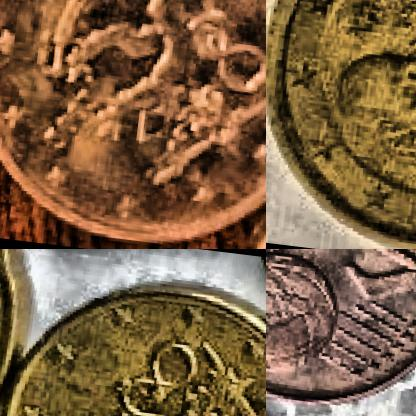coin: (0, 0, 265, 248), (0, 262, 265, 415), (266, 0, 415, 248), (266, 249, 415, 415)
